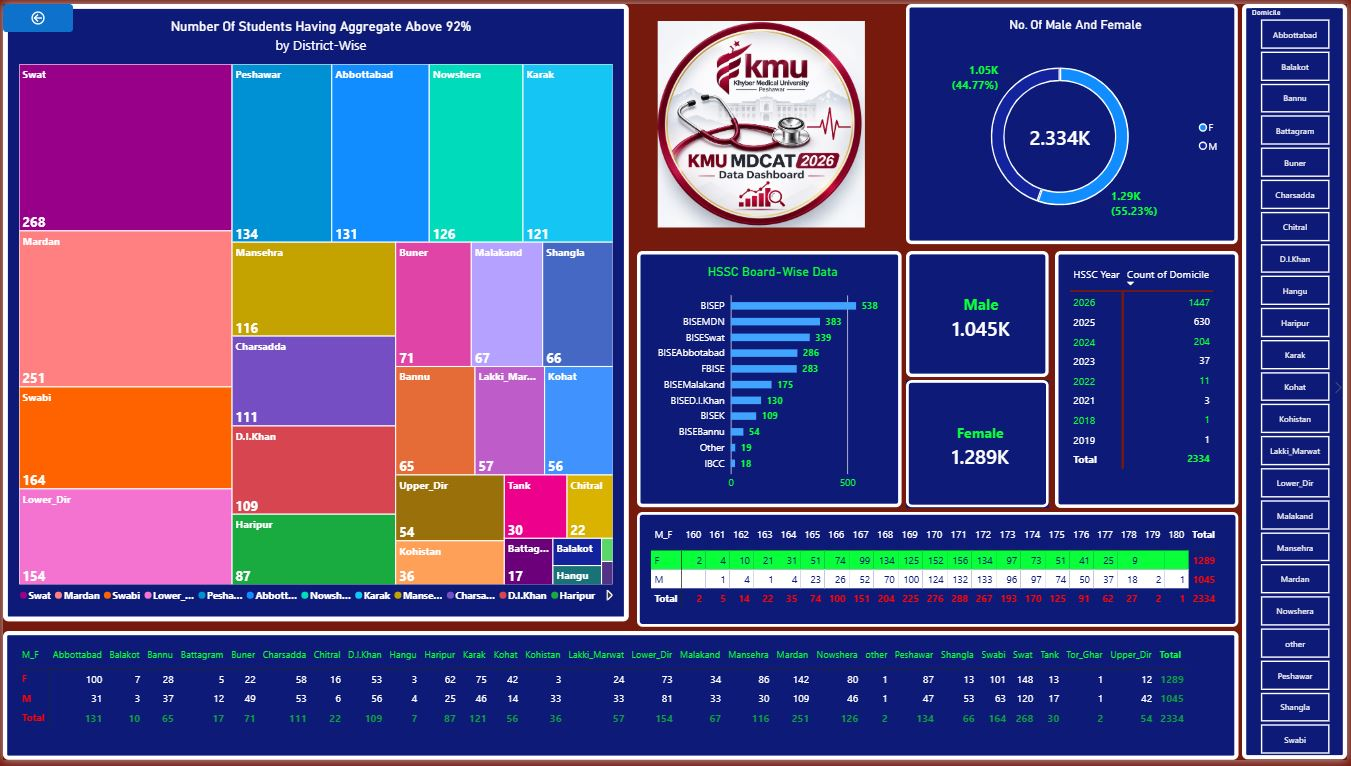

This screenshot's page, from the dashboard's own definition file:
{"tool":"powerbi","page":{"name":"Page 1","canvas":[1920,1080],"ordinal":0},"visuals":[{"type":"treemap","fields":{"Group":["MBBS Open Merit.Domicile"],"Values":["CountNonNull(MBBS Open Merit.Domicile)"]},"box":[0,0,894.4,882.5],"z":0},{"type":"pivotTable","fields":{"Columns":["MBBS Open Merit.Domicile"],"Rows":["MBBS Open Merit.M_F"],"Values":["CountNonNull(MBBS Open Merit.M_F)"]},"box":[0,895.7,1765,184.2],"z":1000},{"type":"actionButton","box":[0,0,100,40],"z":2000},{"type":"pivotTable","fields":{"Rows":["MBBS Open Merit.HSSC Year"],"Values":["CountNonNull(MBBS Open Merit.Domicile)"]},"box":[1502.6,352.5,262.4,367],"z":3000},{"type":"clusteredBarChart","title":"HSSC Board-Wise Data","fields":{"Category":["MBBS Open Merit.HSSC Board"],"Y":["CountNonNull(MBBS Open Merit.HSSC Board)"]},"box":[906.3,352.5,377.9,366.2],"z":4000},{"type":"pivotTable","fields":{"Columns":["MBBS Open Merit.MDCAT Marks"],"Rows":["MBBS Open Merit.M_F"],"Values":["CountNonNull(MBBS Open Merit.M_F)"]},"box":[906.3,726.1,858.6,164.3],"z":5000},{"type":"slicer","title":"District","fields":{"Values":["MBBS Open Merit.Domicile"]},"box":[1770.1,0,149.9,1079.2],"z":6000},{"type":"donutChart","title":"No. Of Male And Female","fields":{"Category":["MBBS Open Merit.M_F"],"Y":["CountNonNull(MBBS Open Merit.M_F)"]},"box":[1290.6,0,474.4,343.2],"z":7000},{"type":"cardVisual","fields":{"Data":["MBBS Open Merit.Male"]},"box":[1290.6,352.5,204.1,180.2],"z":8000},{"type":"cardVisual","fields":{"Data":["MBBS Open Merit.Female"]},"box":[1290.6,536.6,204.1,182.9],"z":9000},{"type":"image","box":[894.4,23.9,377.6,295.5],"z":9001}]}

Visuals, with their boxes in screenshot pixels (x1, y1, x2, y2), scaled from the page's 1920x1080 canvas onto the 1351x766 screenshot:
treemap - MBBS Open Merit.Domicile x CountNonNull(MBBS Open Merit.Domicile): [0, 0, 629, 626]
pivotTable - MBBS Open Merit.Domicile x MBBS Open Merit.M_F: [0, 635, 1242, 765]
actionButton: [0, 0, 70, 28]
pivotTable - MBBS Open Merit.HSSC Year x CountNonNull(MBBS Open Merit.Domicile): [1057, 250, 1242, 510]
"HSSC Board-Wise Data" clusteredBarChart: [638, 250, 904, 510]
pivotTable - MBBS Open Merit.MDCAT Marks x MBBS Open Merit.M_F: [638, 515, 1242, 632]
"District" slicer: [1246, 0, 1350, 765]
"No. Of Male And Female" donutChart: [908, 0, 1242, 243]
cardVisual - MBBS Open Merit.Male: [908, 250, 1052, 378]
cardVisual - MBBS Open Merit.Female: [908, 381, 1052, 510]
image: [629, 17, 895, 227]
